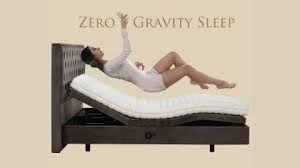bed-matress: (67, 73, 248, 131)
